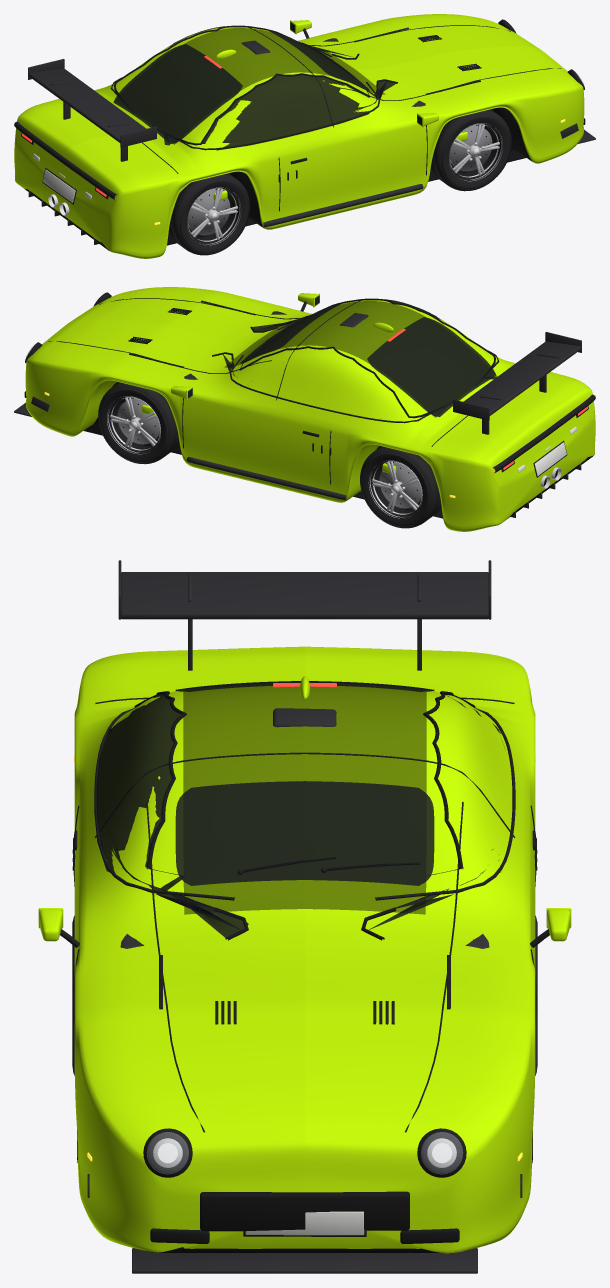
3 renders of one model, top to bottom at view 1: azimuth 30°, elevation 25°; view 2: azimuth 150°, elevation 25°; view 3: azimuth 270°, elevation 25°, orthographic. The views are drawn at different scales.
Parts seen in each view (by area): view 1: body, glass_screen_1, glass_side_R, wing, wheel_RR_tyre, wheel_FR_tyre, side_skirt, wheel_RR_disc, glass_screen_0, wheel_FR_disc, tail_housing, wheel_FR_barrel (+7 smaller); view 2: body, glass_screen_1, wing, wheel_RL_tyre, wheel_FL_tyre, side_skirt.001, glass_screen_0, wheel_RL_disc, wheel_FL_disc, tail_housing, seal_L.001, wheel_FL_barrel (+6 smaller); view 3: body, glass_screen_0, wing, glass_side_R, splitter, grille_back, plate_front, head_lens, head_lens.001, head_housing, head_housing.001, roof_scoop (+5 smaller).
Part boxes in pixels (x1=…): body: x1=14, y1=14, x2=584, y2=258; glass_screen_1: x1=113, y1=44, x2=242, y2=144; glass_side_R: x1=164, y1=74, x2=396, y2=150; wing: x1=28, y1=68, x2=146, y2=142; wheel_RR_tyre: x1=168, y1=173, x2=249, y2=255; wheel_FR_tyre: x1=430, y1=109, x2=511, y2=191; side_skirt: x1=261, y1=184, x2=423, y2=227; wheel_RR_disc: x1=188, y1=189, x2=230, y2=235; glass_screen_0: x1=269, y1=31, x2=369, y2=90; wheel_FR_disc: x1=450, y1=125, x2=492, y2=171; tail_housing: x1=14, y1=121, x2=116, y2=200; wheel_FR_barrel: x1=449, y1=124, x2=500, y2=179; body: x1=25, y1=287, x2=595, y2=531; glass_screen_1: x1=367, y1=317, x2=496, y2=417; wing: x1=463, y1=341, x2=581, y2=415; wheel_RL_tyre: x1=360, y1=446, x2=441, y2=528; wheel_FL_tyre: x1=98, y1=382, x2=179, y2=464; side_skirt.001: x1=186, y1=457, x2=348, y2=500; glass_screen_0: x1=240, y1=304, x2=340, y2=363; wheel_RL_disc: x1=379, y1=462, x2=421, y2=508; wheel_FL_disc: x1=117, y1=398, x2=159, y2=444; tail_housing: x1=493, y1=394, x2=595, y2=473; seal_L.001: x1=239, y1=346, x2=434, y2=418; wheel_FL_barrel: x1=109, y1=397, x2=160, y2=452; body: x1=74, y1=646, x2=535, y2=1253; glass_screen_0: x1=175, y1=781, x2=434, y2=885; wing: x1=121, y1=572, x2=488, y2=619; glass_side_R: x1=94, y1=693, x2=248, y2=938; splitter: x1=132, y1=1248, x2=477, y2=1273; grille_back: x1=200, y1=1191, x2=409, y2=1231; plate_front: x1=245, y1=1211, x2=364, y2=1235; head_lens: x1=146, y1=1132, x2=188, y2=1174; head_lens.001: x1=421, y1=1132, x2=463, y2=1174; head_housing: x1=143, y1=1128, x2=192, y2=1177; head_housing.001: x1=417, y1=1128, x2=466, y2=1177; roof_scoop: x1=273, y1=708, x2=336, y2=727.
Size of the model in its own units: 4.64 by 1.32 by 2.16.
